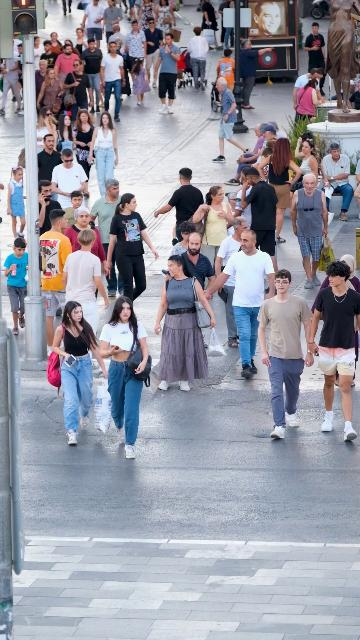person: (203, 229, 277, 380), (257, 268, 317, 440), (307, 260, 360, 442), (153, 254, 217, 392), (98, 295, 150, 460), (50, 300, 108, 446), (61, 228, 110, 369), (105, 193, 159, 305), (39, 208, 76, 357), (256, 137, 303, 244), (214, 216, 252, 348), (290, 173, 328, 290), (240, 167, 279, 274), (65, 207, 111, 297), (153, 167, 204, 246), (89, 178, 122, 298), (192, 185, 236, 271), (212, 77, 251, 163), (168, 232, 216, 296), (321, 143, 354, 226), (2, 236, 29, 336), (88, 111, 119, 198), (238, 39, 276, 109), (225, 124, 266, 186), (51, 148, 89, 213), (152, 33, 182, 115), (162, 221, 203, 277), (72, 109, 96, 198), (236, 122, 277, 174), (100, 41, 126, 122), (62, 59, 94, 122), (293, 67, 325, 123), (81, 38, 104, 113), (303, 22, 326, 95), (292, 136, 320, 193), (38, 179, 63, 240), (187, 26, 210, 92), (108, 24, 131, 88), (143, 18, 164, 88), (126, 20, 150, 79), (7, 165, 26, 239), (294, 79, 325, 123), (37, 68, 66, 115), (37, 134, 64, 183), (80, 0, 104, 49), (53, 43, 80, 85), (55, 113, 78, 161), (36, 107, 59, 155), (130, 60, 151, 106), (201, 0, 220, 50), (216, 48, 236, 95), (102, 0, 123, 43), (227, 183, 253, 217), (218, 0, 236, 49), (61, 191, 85, 227), (176, 46, 196, 89), (34, 59, 49, 111), (73, 28, 89, 60), (264, 120, 288, 141), (31, 37, 43, 70), (49, 32, 64, 56)
